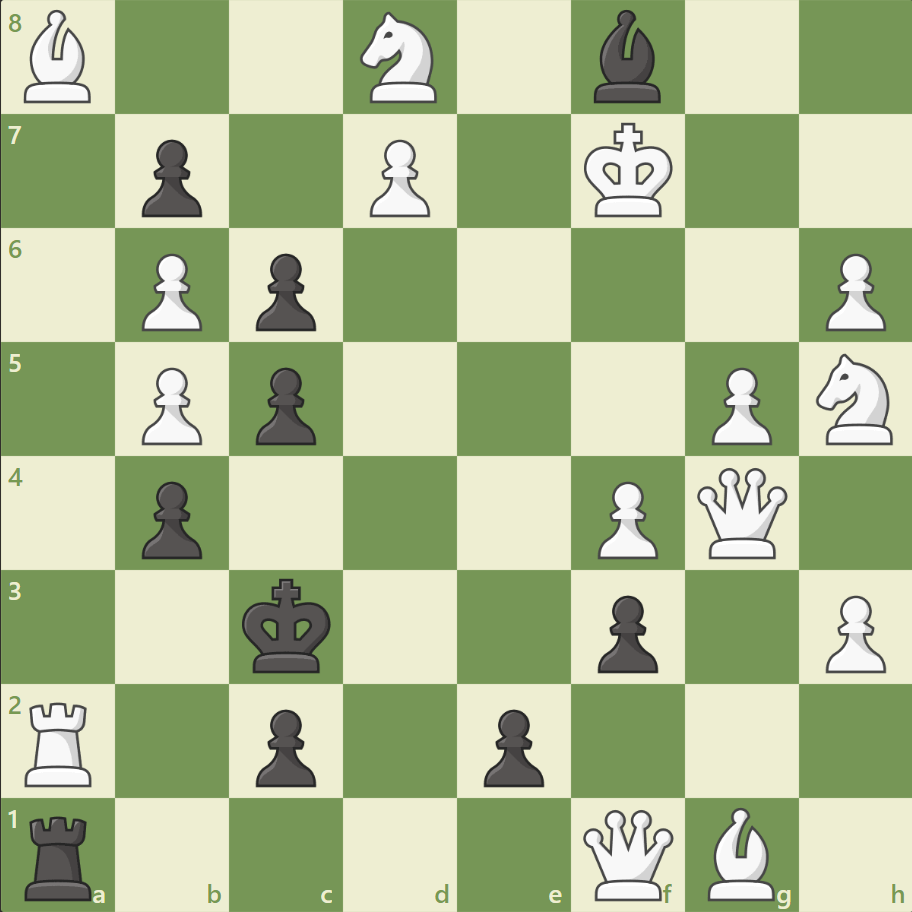B: (17, 6, 101, 109), (698, 801, 782, 904)
K: (579, 117, 679, 225)
N: (351, 7, 449, 110), (806, 348, 903, 450)
P: (133, 246, 208, 337), (133, 359, 208, 450), (701, 359, 776, 450), (361, 132, 435, 223), (815, 246, 889, 337), (588, 473, 662, 564), (815, 586, 889, 677)
Q: (691, 463, 790, 562), (578, 804, 677, 903)
R: (19, 693, 102, 790)
b: (585, 6, 669, 109)
k: (238, 571, 338, 679)
p: (133, 132, 208, 223), (247, 246, 322, 337), (247, 359, 322, 450), (133, 473, 208, 564), (247, 700, 322, 791), (474, 700, 549, 791), (588, 586, 662, 677)
r: (19, 806, 102, 904)
